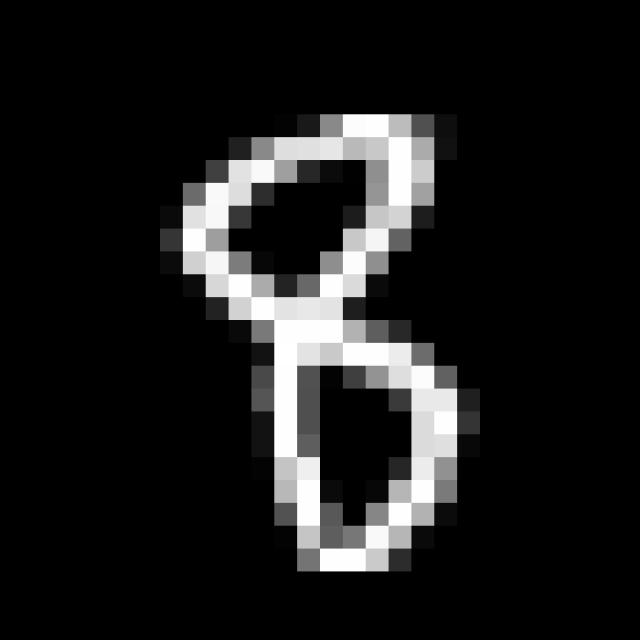eight -8-: (167, 100, 477, 577)
